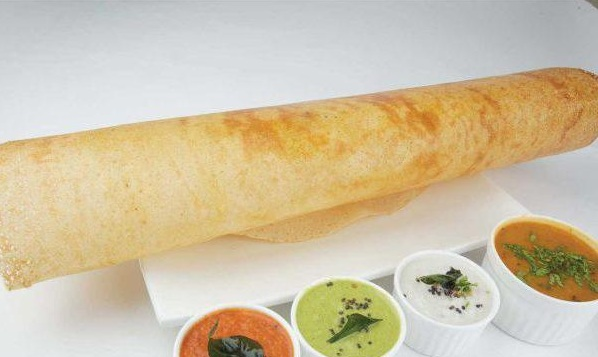dosa: (2, 68, 598, 294)
